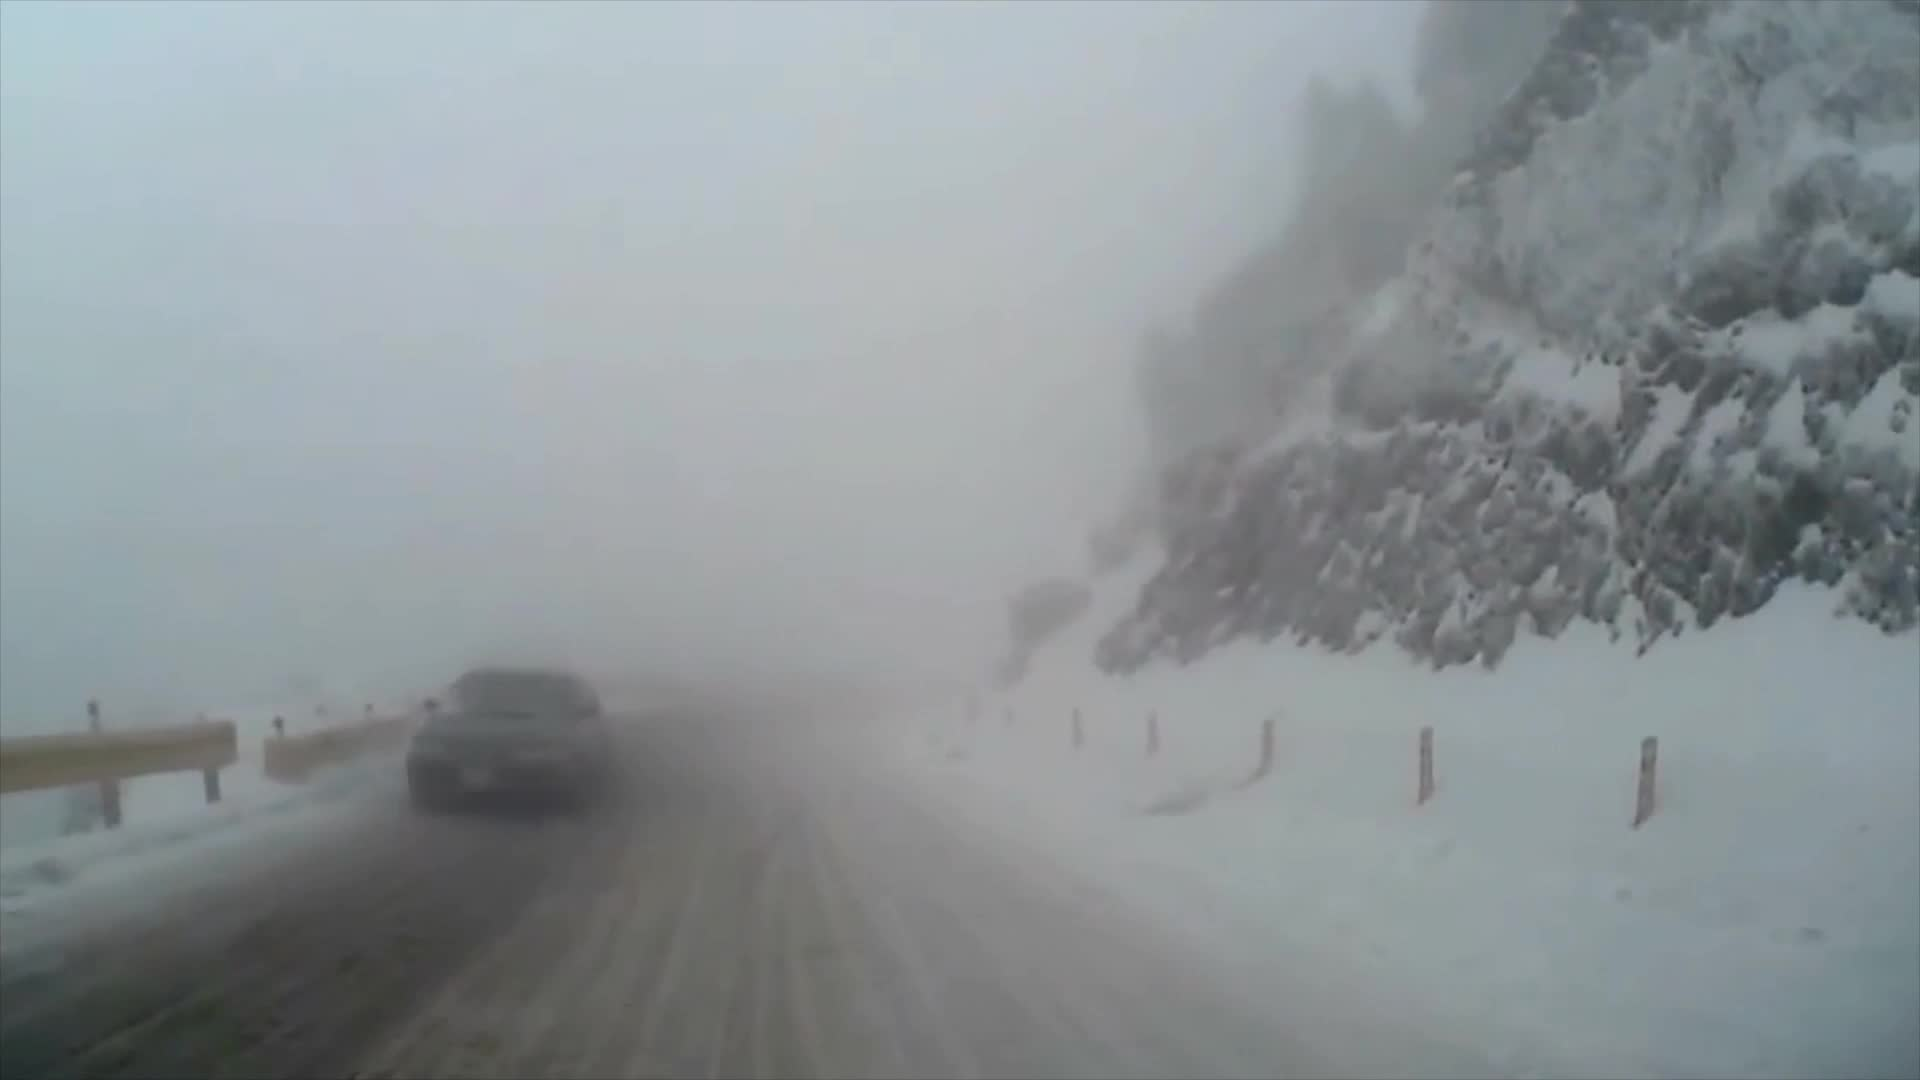vehicle: (404, 665, 615, 818)
